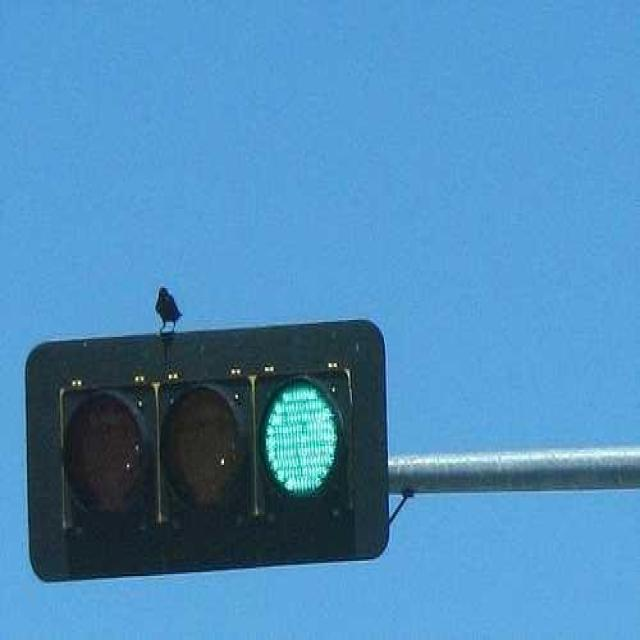Traffic Light -Green-: (23, 317, 394, 585)
